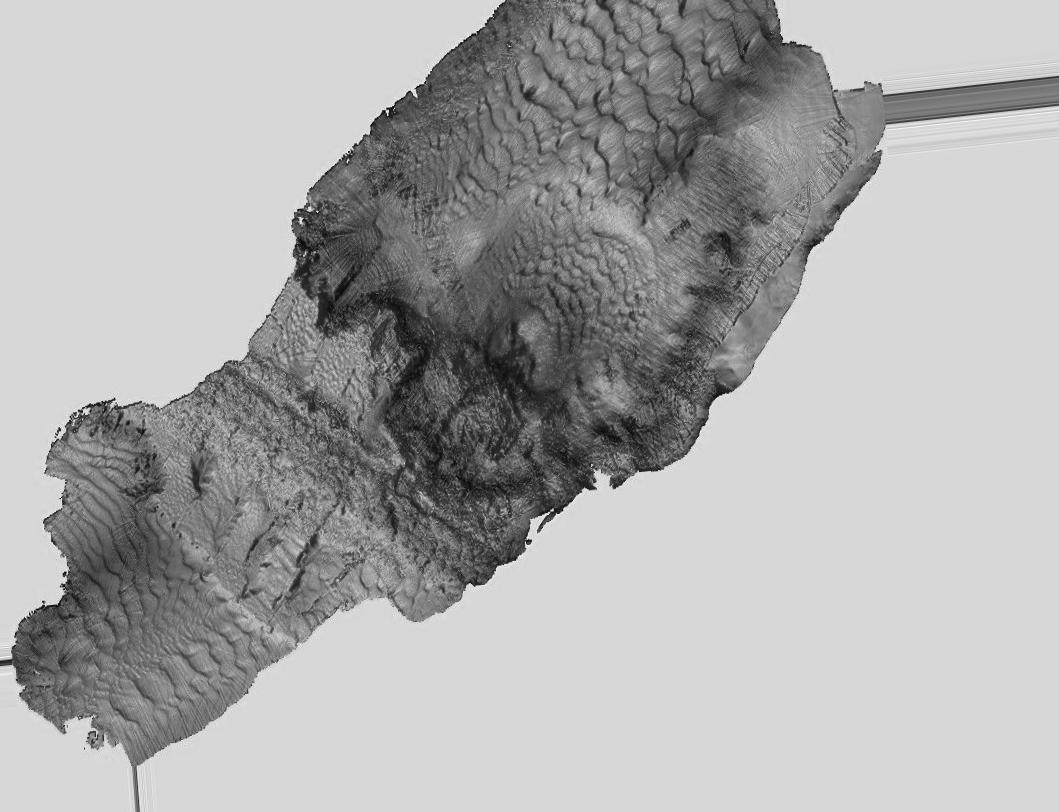Dune: (534, 14, 701, 177), (528, 211, 633, 275), (109, 648, 225, 703), (456, 113, 527, 189), (89, 548, 154, 628)
Scarp: (611, 364, 750, 508), (506, 457, 650, 561)
Scour pit: (449, 280, 604, 415)
Submerged dike: (318, 466, 479, 622), (205, 371, 338, 496)
